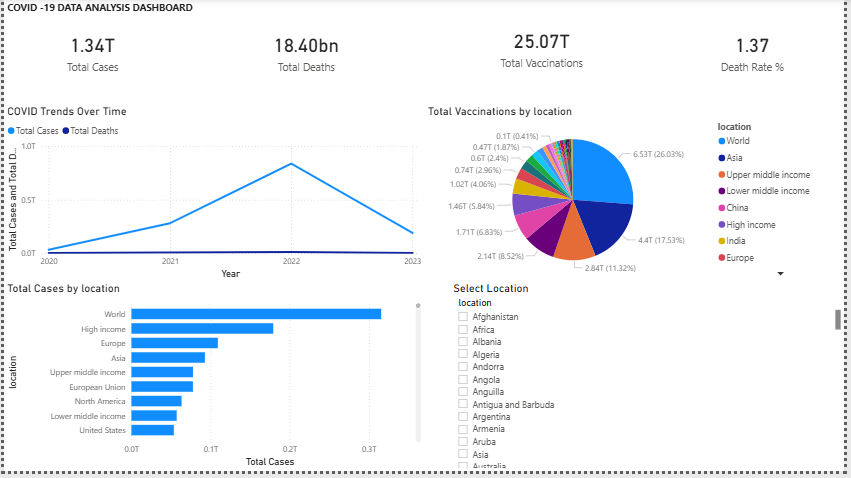

Layout of this report page (visuals, bound fields, positions):
{"tool":"powerbi","page":{"name":"Page 1","canvas":[1280,720],"ordinal":0},"visuals":[{"type":"lineChart","title":"COVID Trends Over Time","fields":{"Y":["owid-covid-data-old (2).Total Cases","owid-covid-data-old (2).Total Cases","owid-covid-data-old (2).Total Deaths"],"Category":["owid-covid-data-old (2).date.Variation.Date Hierarchy.Year","owid-covid-data-old (2).date.Variation.Date Hierarchy.Quarter","owid-covid-data-old (2).date.Variation.Date Hierarchy.Month","owid-covid-data-old (2).date.Variation.Date Hierarchy.Day"]},"box":[0,162.5,640,270],"z":0},{"type":"card","fields":{"Values":["owid-covid-data-old (2).Total Deaths"]},"box":[320,0,280,162.5],"z":1000},{"type":"card","fields":{"Values":["owid-covid-data-old (2).Total Vaccinations"]},"box":[680,0,280,150],"z":2000},{"type":"card","fields":{"Values":["owid-covid-data-old (2).Death Rate %"]},"box":[1000,0,280,162.5],"z":3000},{"type":"card","fields":{"Values":["owid-covid-data-old (2).Total Cases"]},"box":[0,0,270,162.5],"z":4000},{"type":"clusteredBarChart","fields":{"Category":["owid-covid-data-old (2).location"],"Y":["owid-covid-data-old (2).Total Cases"]},"box":[0,432.5,640,287.5],"z":5000},{"type":"slicer","title":"Select Location","fields":{"Values":["owid-covid-data-old (2).location"]},"box":[680,432.5,600,287.5],"z":6000},{"type":"pieChart","fields":{"Category":["owid-covid-data-old (2).location"],"Y":["owid-covid-data-old (2).Total Vaccinations"]},"box":[640,162.5,640,270],"z":7000},{"type":"textbox","box":[0,0,320,40],"z":7001}]}

Visuals, with their boxes in screenshot pixels (x1, y1, x2, y2), scaled from the page's 1280x720 canvas onto the 851x478 screenshot:
"COVID Trends Over Time" lineChart: [0,108,426,287]
card - owid-covid-data-old (2).Total Deaths: [213,0,399,108]
card - owid-covid-data-old (2).Total Vaccinations: [452,0,638,100]
card - owid-covid-data-old (2).Death Rate %: [665,0,850,108]
card - owid-covid-data-old (2).Total Cases: [0,0,180,108]
clusteredBarChart - owid-covid-data-old (2).location x owid-covid-data-old (2).Total Cases: [0,287,426,477]
"Select Location" slicer: [452,287,850,477]
pieChart - owid-covid-data-old (2).location x owid-covid-data-old (2).Total Vaccinations: [426,108,850,287]
textbox: [0,0,213,27]
